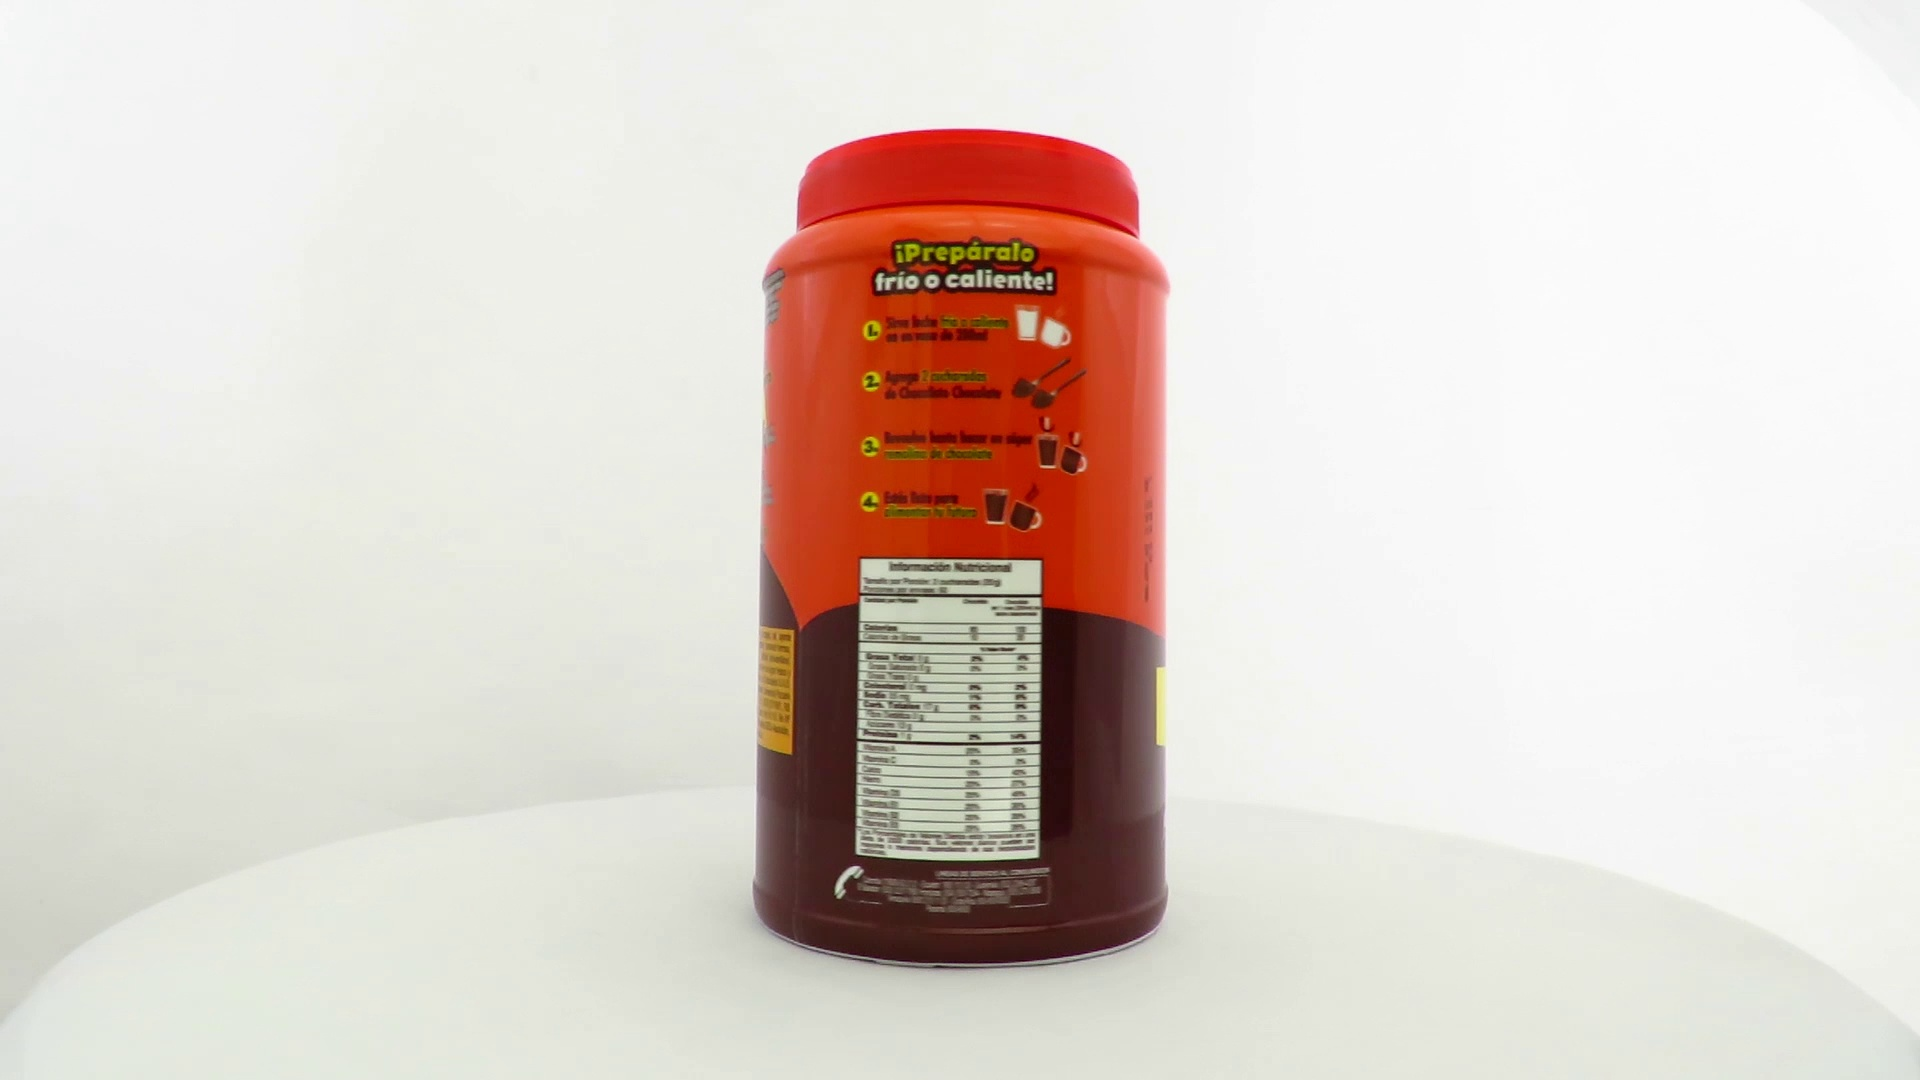COL0170103TRR00100: (738, 123, 1176, 975)
